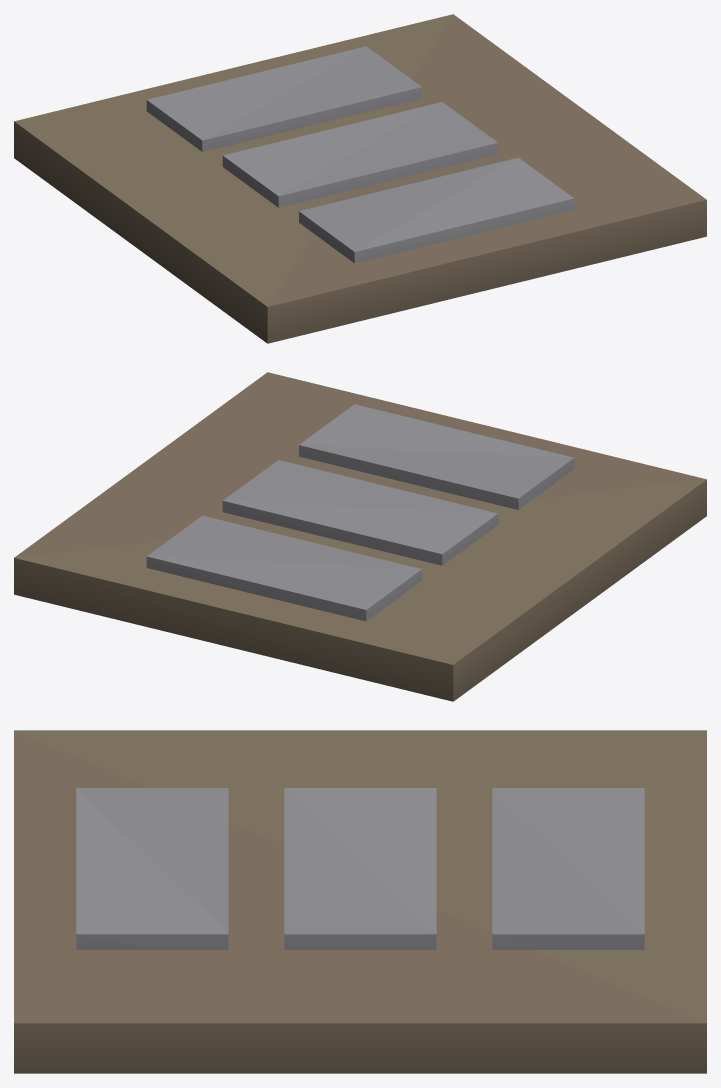
Rendered from path_straight.glb.
3 views of the same model, one above another, from view 1: azimuth 30°, elevation 25°; view 2: azimuth 150°, elevation 25°; view 3: azimuth 270°, elevation 25° (orthographic). The views are drawn at different scales.
Visible parts, largest first — view 1: path_straight; view 2: path_straight; view 3: path_straight.
Boxes of the visible parts, x1=… form: path_straight: x1=14, y1=14, x2=706, y2=343; path_straight: x1=14, y1=372, x2=706, y2=701; path_straight: x1=14, y1=730, x2=706, y2=1073.
Bounding box in the file's own units: 1 × 0.105 × 1.
